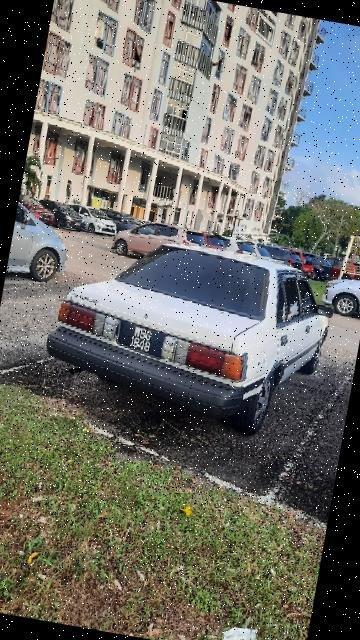License_Plate: (114, 317, 170, 363)
car: (45, 221, 341, 447)
